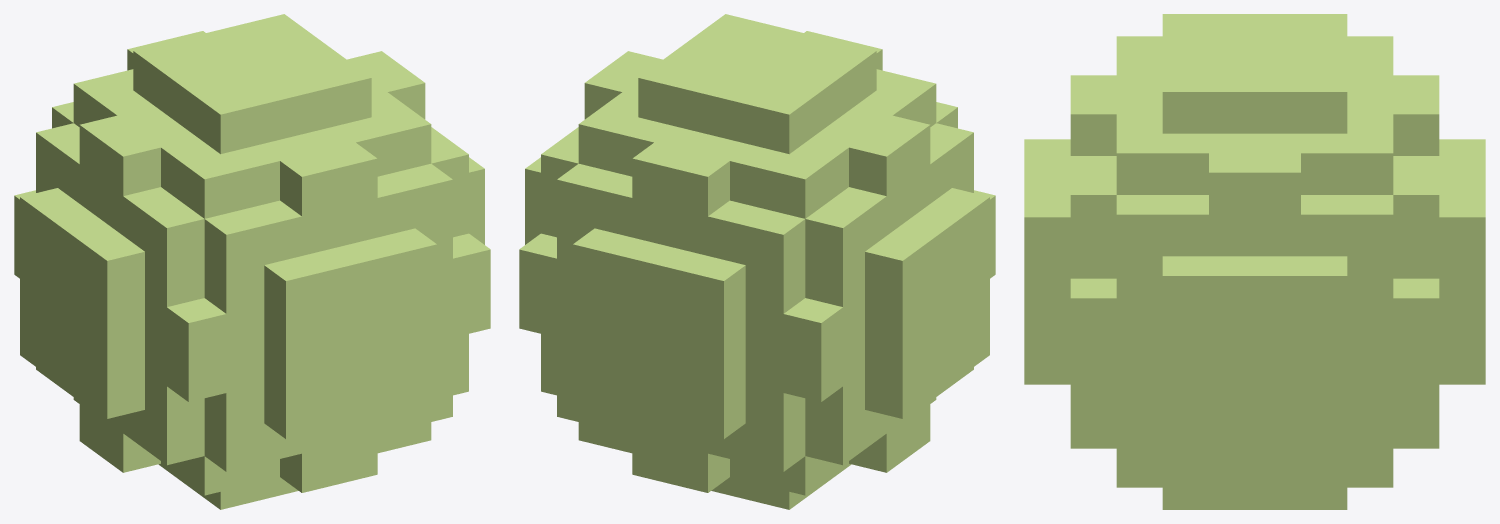
Rendered from Asteroid 01.obj.
The picture shows the model from 3 angles, left to right: view 1: azimuth 30°, elevation 25°; view 2: azimuth 150°, elevation 25°; view 3: azimuth 270°, elevation 25°; orthographic projection. The views are drawn at different scales.
Parts seen in each view (by area): view 1: Asteroid 01; view 2: Asteroid 01; view 3: Asteroid 01.
Boxes of the visible parts, bbox=[...] form: Asteroid 01: bbox=[14, 14, 490, 509]; Asteroid 01: bbox=[519, 14, 995, 509]; Asteroid 01: bbox=[1024, 14, 1485, 509].
Size of the model in its own units: 10 by 10 by 10.
Materials: 1 (1 with a texture image).
